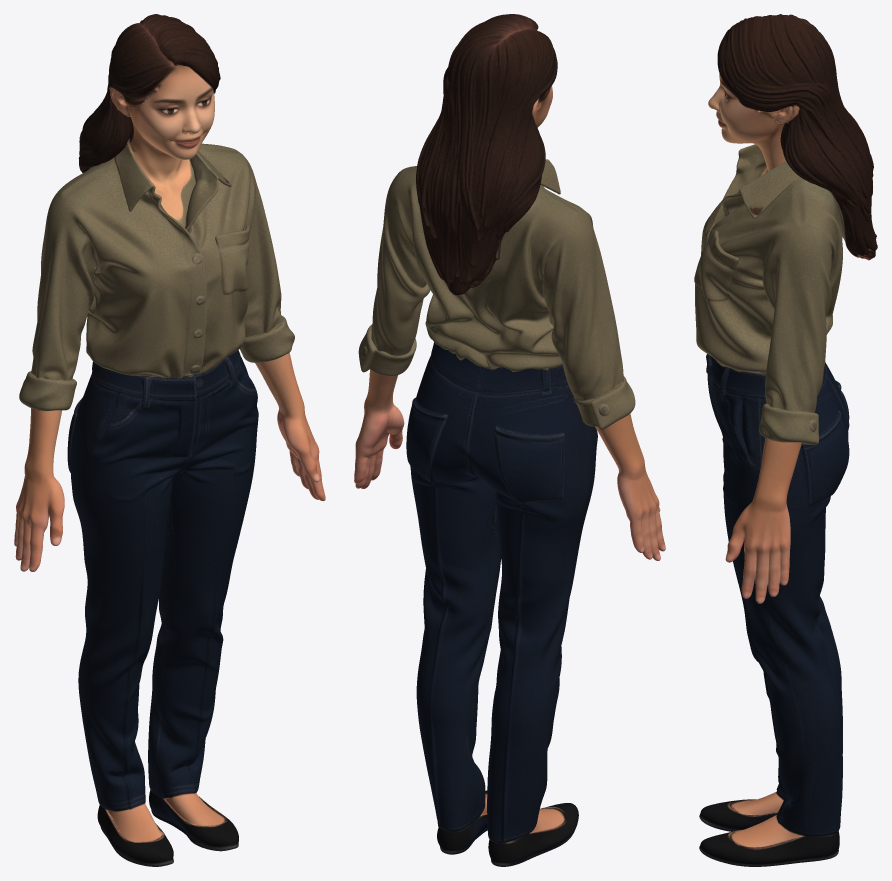
The model's file is employee-11.glb.
The picture shows the model from 3 angles, left to right: view 1: azimuth 30°, elevation 25°; view 2: azimuth 150°, elevation 25°; view 3: azimuth 270°, elevation 25°; orthographic projection.
Bounding box in the file's own units: 0.7288 × 1.9 × 0.384.
Materials: 1 (1 with a texture image).
